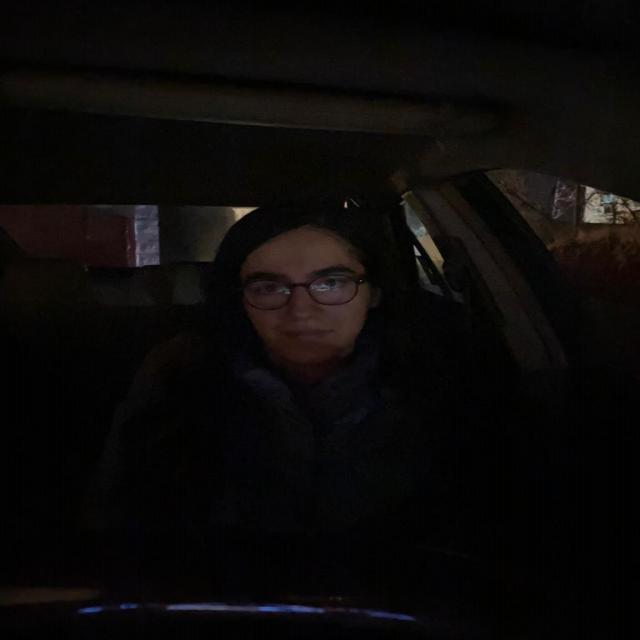person: (212, 197, 390, 370)
